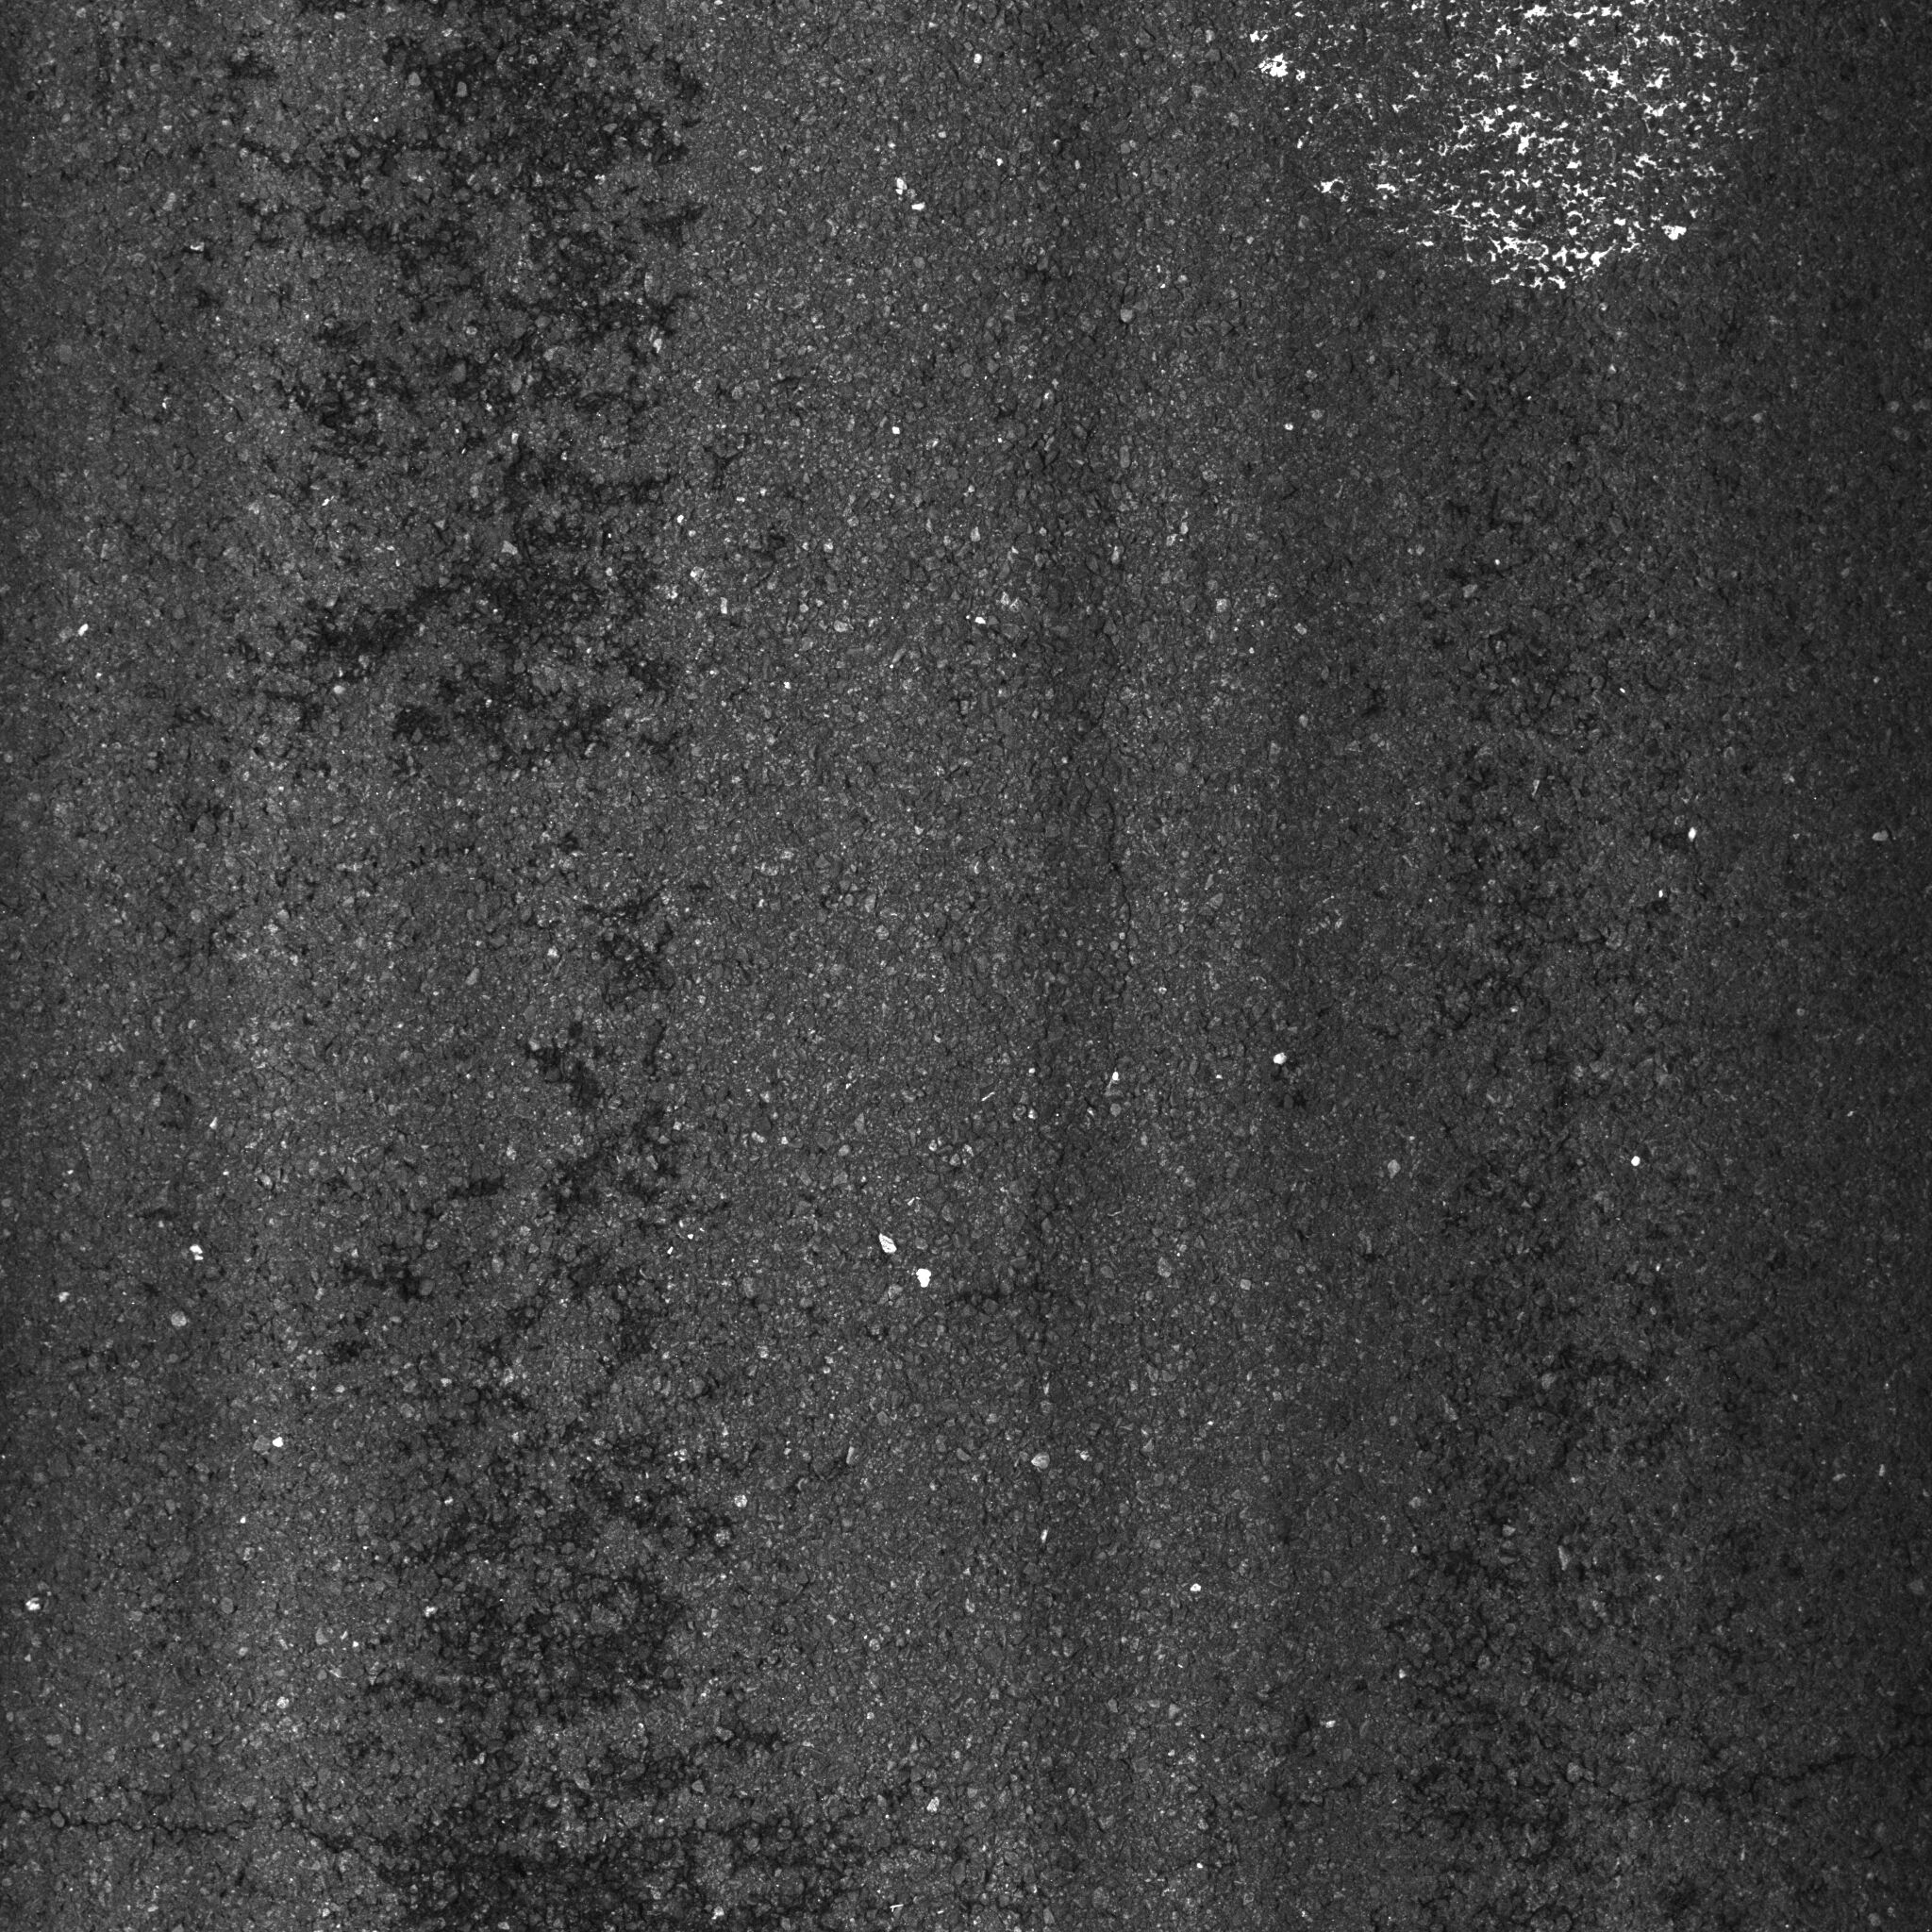transeverse: (9, 1766, 860, 1881)
